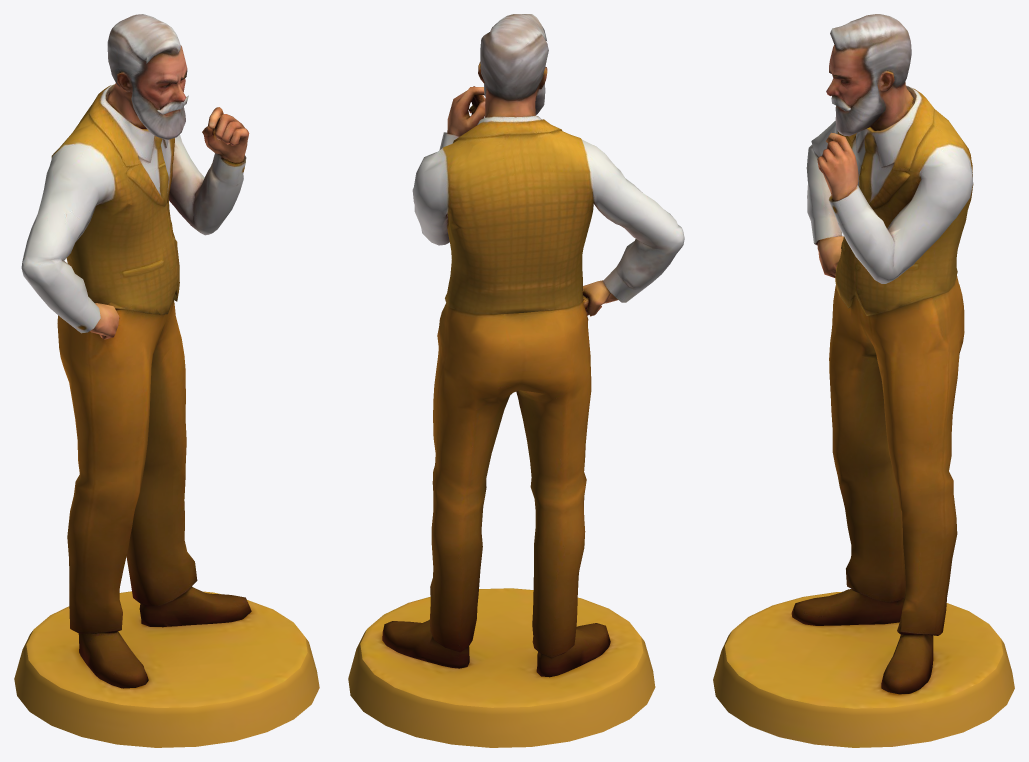
Rendered from saffron_alt.obj.
The picture shows the model from 3 angles, left to right: view 1: azimuth 30°, elevation 25°; view 2: azimuth 150°, elevation 25°; view 3: azimuth 270°, elevation 25°; orthographic projection.
Parts seen in each view (by area): view 1: mustardAlt_0; view 2: mustardAlt_0; view 3: mustardAlt_0.
Part boxes in pixels (x1,y1,x2,y2): mustardAlt_0: (14,14,319,747); mustardAlt_0: (348,14,684,747); mustardAlt_0: (713,14,1014,747).
Size of the model in its own units: 0.886 by 1.91 by 0.796.
